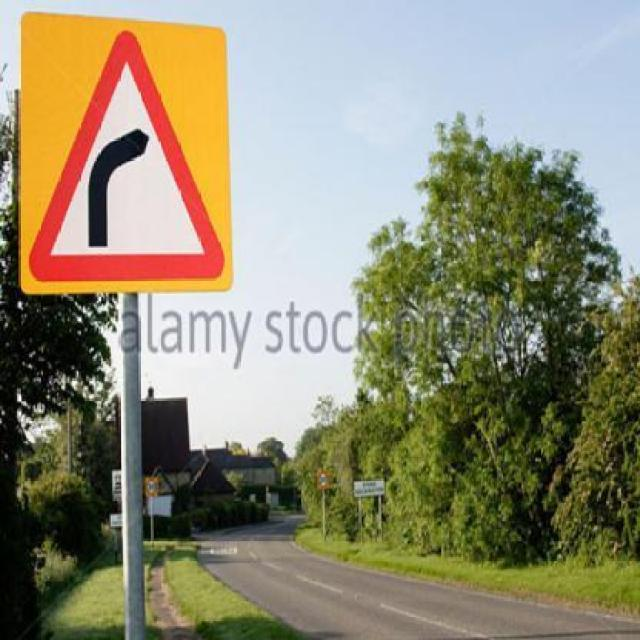warn_right_curve: (30, 27, 226, 286)
